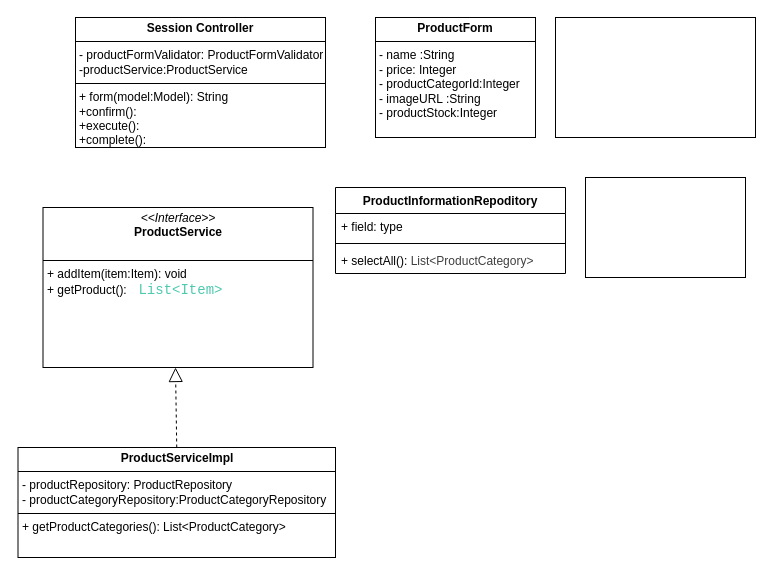
Some shapes in this 773 by 575 pixel diagram are drawn without their labels. The shapes that lost their labels are listed below. From the top down, each one's centre as x and y in pixels, then its label:
At point 655,77: "ProductHelper + convert(itemForm:ItemForm): Item".
At point 665,227: "ProductRepository + Insert(Product): Void".
